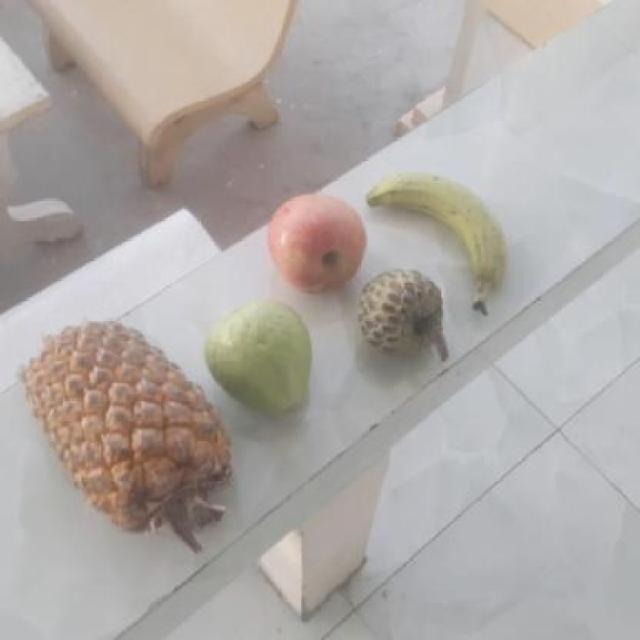apple: (260, 194, 372, 295)
banana: (355, 170, 510, 310)
guava: (199, 302, 313, 418)
pineapple: (16, 320, 233, 545)
sugar apple: (354, 268, 444, 360)
